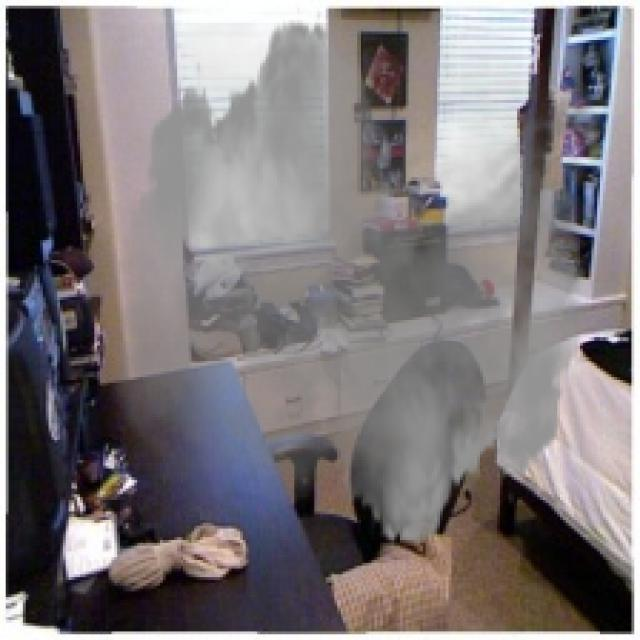Smoke: (100, 3, 623, 563)
